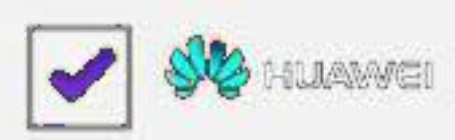CheckBox: (1, 1, 454, 139)
